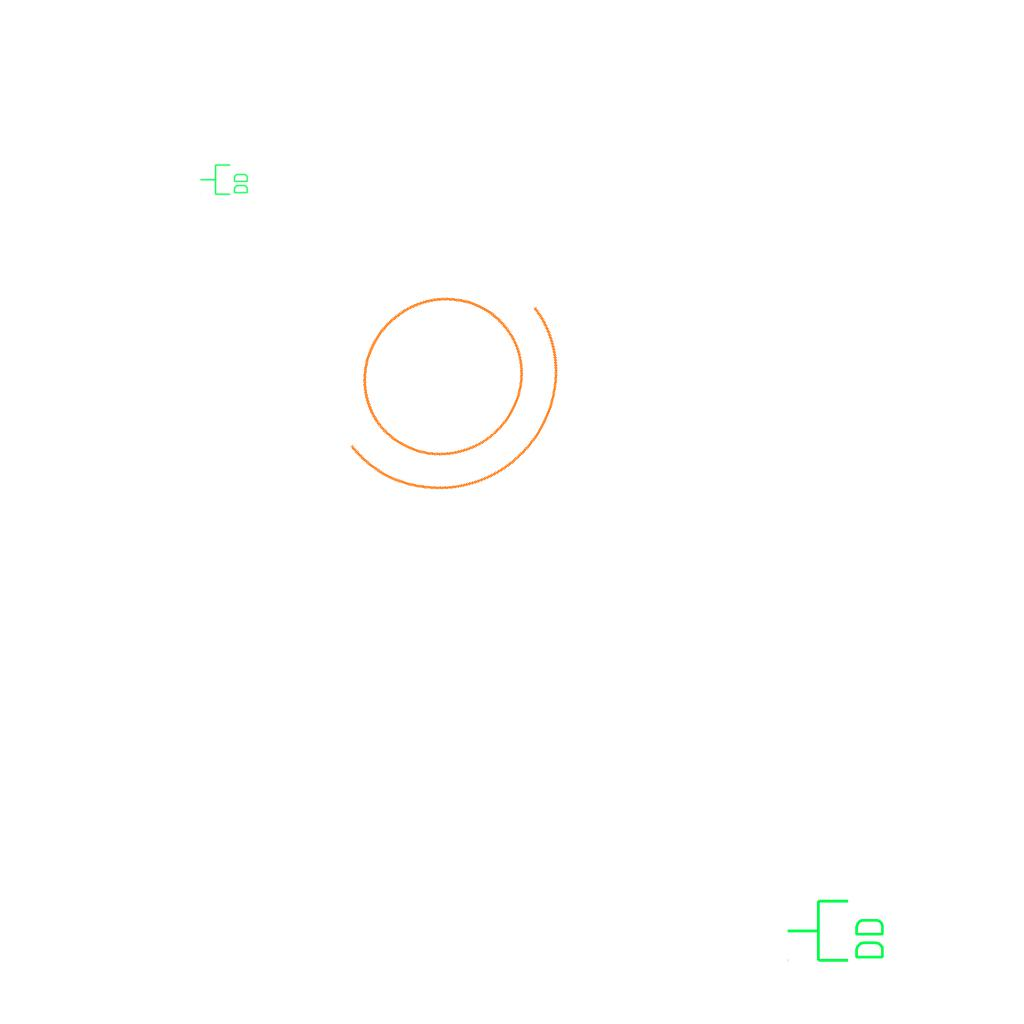Datenanschluss_zweifach: (785, 897, 888, 966), (199, 163, 250, 197)
Scheinwerfer_fuer_Alarmbeleuchtung: (280, 211, 628, 550)
